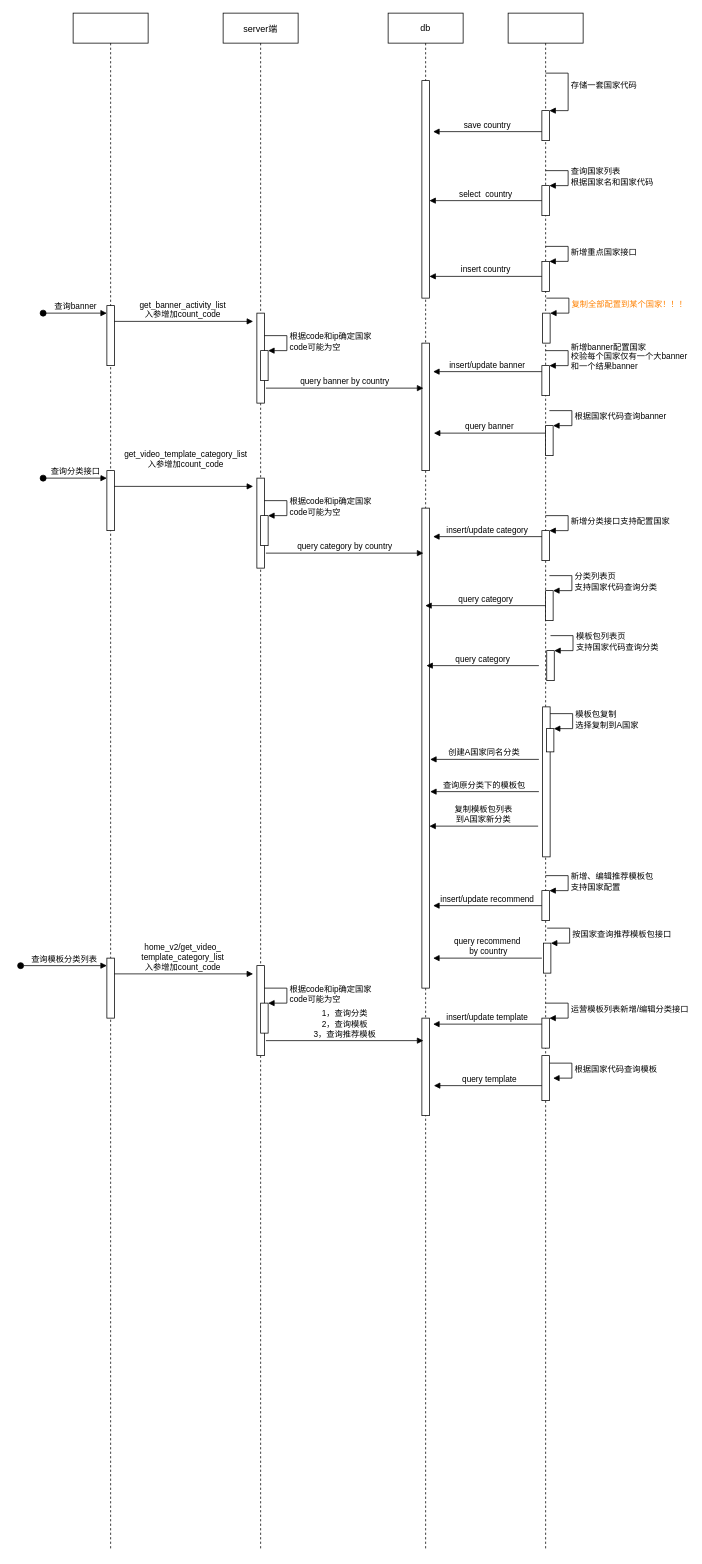
The diagram is 702 pixels wide and 1564 high, and some of its shapes have lost their labels. Each missing label, with the box of its shape:
config端: (507, 12, 583, 1551)
手机端: (72, 12, 148, 1551)
